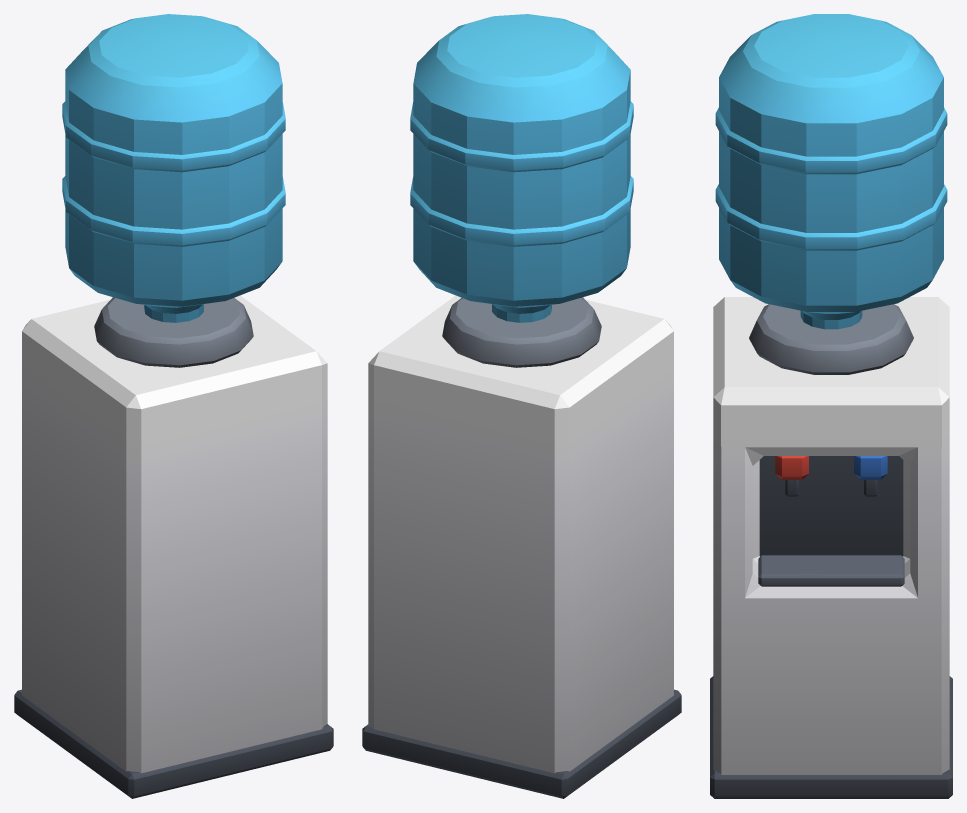
Rendered from Water_Cooler.fbx.
The picture shows the model from 3 angles, left to right: view 1: azimuth 30°, elevation 25°; view 2: azimuth 150°, elevation 25°; view 3: azimuth 270°, elevation 25°; orthographic projection. The views are drawn at different scales.
Parts seen in each view (by area): view 1: Water_Cooler; view 2: Water_Cooler; view 3: Water_Cooler.
Boxes of the visible parts, x1,y1,x2,y2 form: Water_Cooler: (14, 14, 333, 798); Water_Cooler: (362, 14, 681, 798); Water_Cooler: (710, 14, 952, 798).
Size of the model in its own units: 1.94 by 6.28 by 1.94.
1 material, 1 textured.
